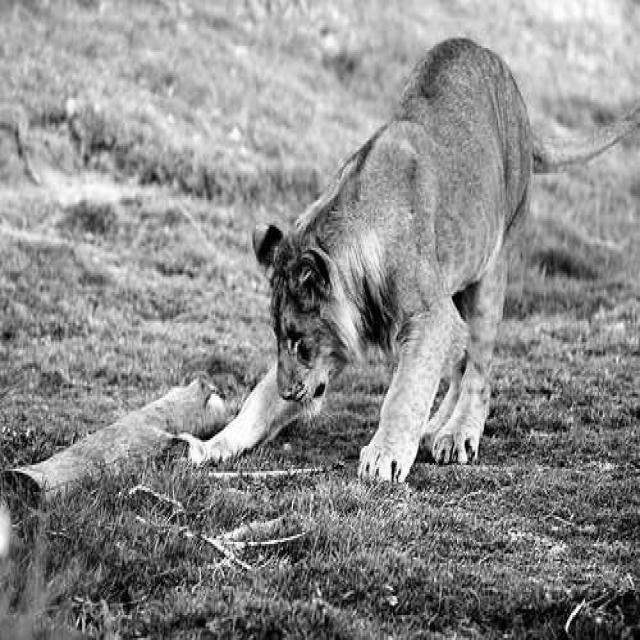Lion: (195, 51, 524, 468)
